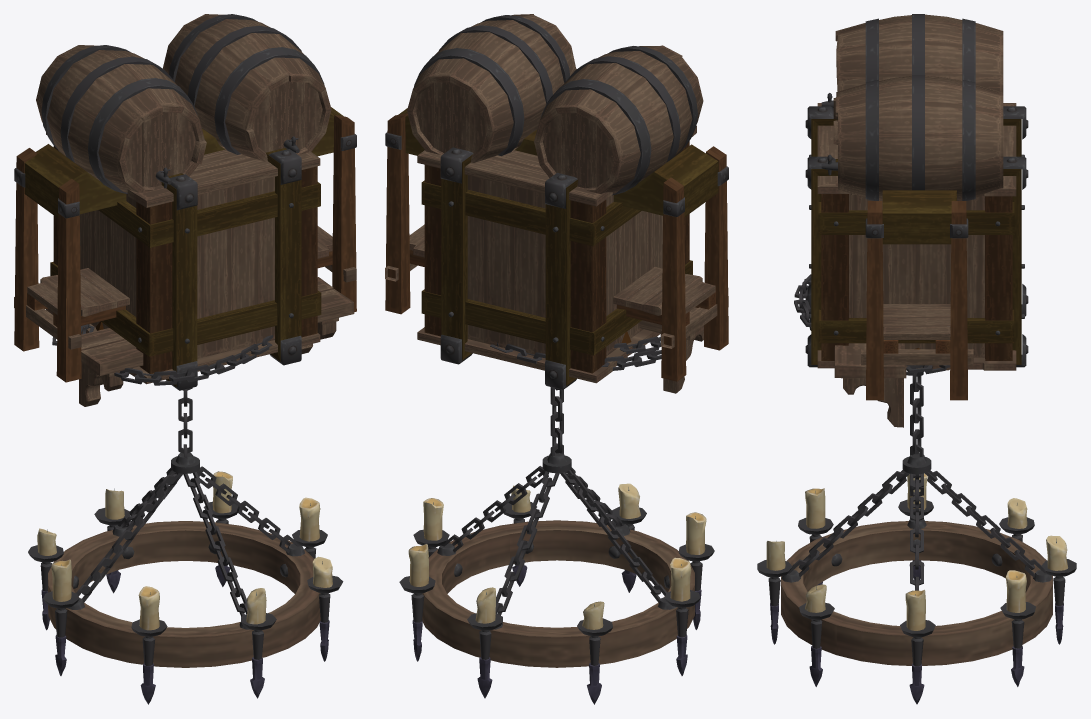
The model's file is props_q.glb.
The picture shows the model from 3 angles, left to right: view 1: azimuth 30°, elevation 25°; view 2: azimuth 150°, elevation 25°; view 3: azimuth 270°, elevation 25°; orthographic projection.
Parts seen in each view (by area): view 1: Barrel_Holder, Crate_Wooden, Chandelier, Shelf_Simple, Chain_Coil; view 2: Barrel_Holder, Crate_Wooden, Chandelier, Chain_Coil, Shelf_Simple; view 3: Barrel_Holder, Chandelier, Crate_Wooden, Shelf_Simple, Chain_Coil.
Boxes of the visible parts, x1,y1,x2,y2 form: Barrel_Holder: (14,14,356,382); Crate_Wooden: (46,133,321,390); Chandelier: (28,387,343,704); Shelf_Simple: (79,277,354,406); Chain_Coil: (52,324,274,385); Barrel_Holder: (385,14,728,381); Crate_Wooden: (417,125,696,389); Chandelier: (399,387,714,704); Chain_Coil: (490,336,661,370); Shelf_Simple: (639,307,703,393); Barrel_Holder: (821,14,1003,400); Chandelier: (757,372,1076,704); Crate_Wooden: (805,103,1028,370); Shelf_Simple: (834,343,906,427); Chain_Coil: (794,274,950,375).
Size of the model in its own units: 1.36 by 2.67 by 1.3.
Materials: 4 (4 with a texture image).
